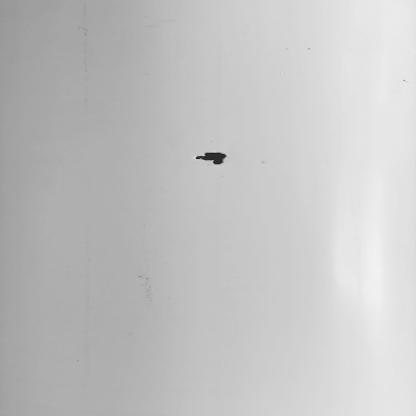kongdong: (195, 147, 232, 172)
